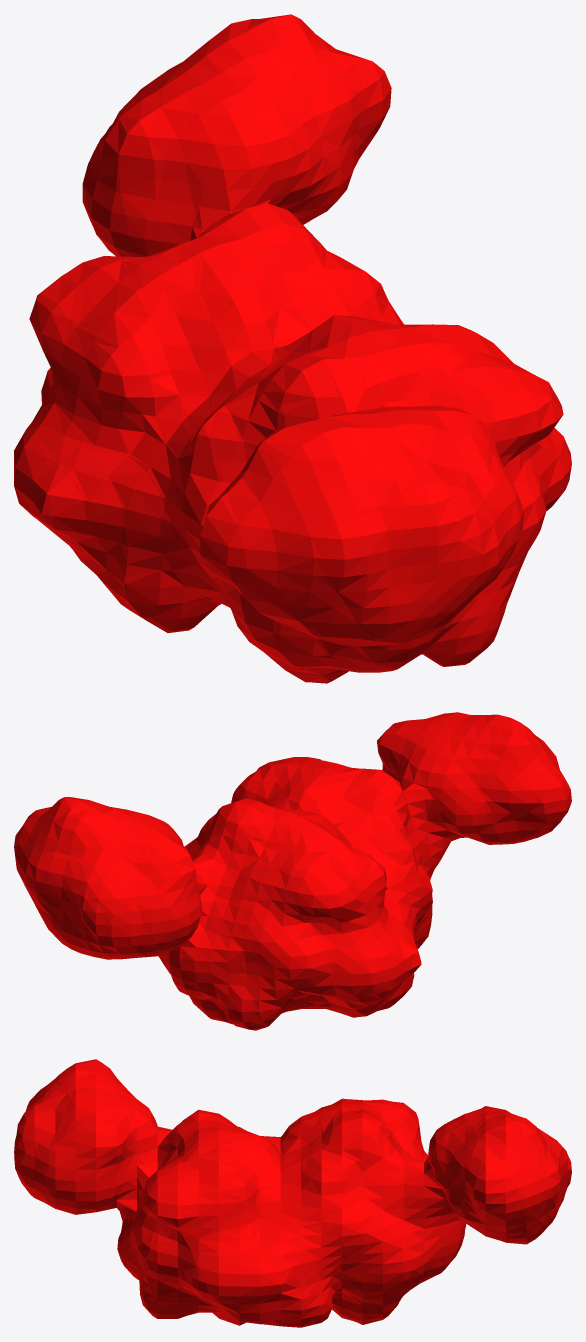
Rendered from entB_coarse.dae.
3 renders of one model, top to bottom at view 1: azimuth 30°, elevation 25°; view 2: azimuth 150°, elevation 25°; view 3: azimuth 270°, elevation 25°, orthographic. The views are drawn at different scales.
Visible parts, largest first — view 1: entB; view 2: entB; view 3: entB.
Boxes of the visible parts, x1,y1,x2,y2 form: entB: [14, 14, 571, 683]; entB: [14, 712, 571, 1030]; entB: [14, 1059, 571, 1327].
Size of the model in its own units: 71.79 by 57.52 by 114.
